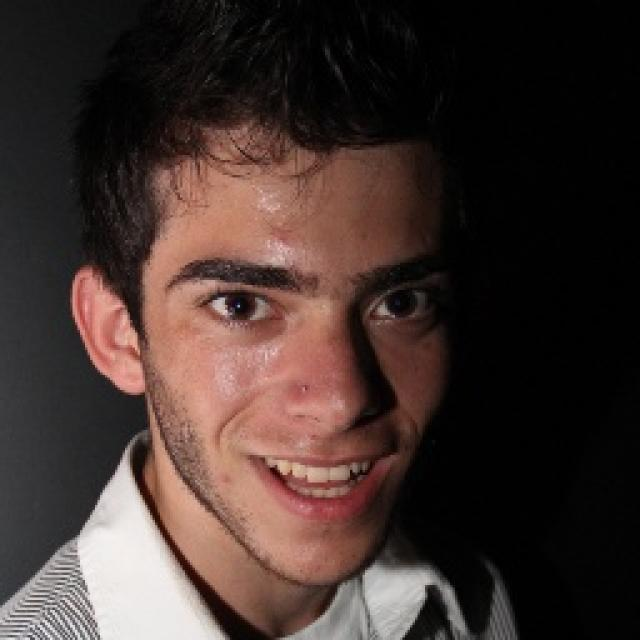earlobe: (71, 264, 151, 396)
